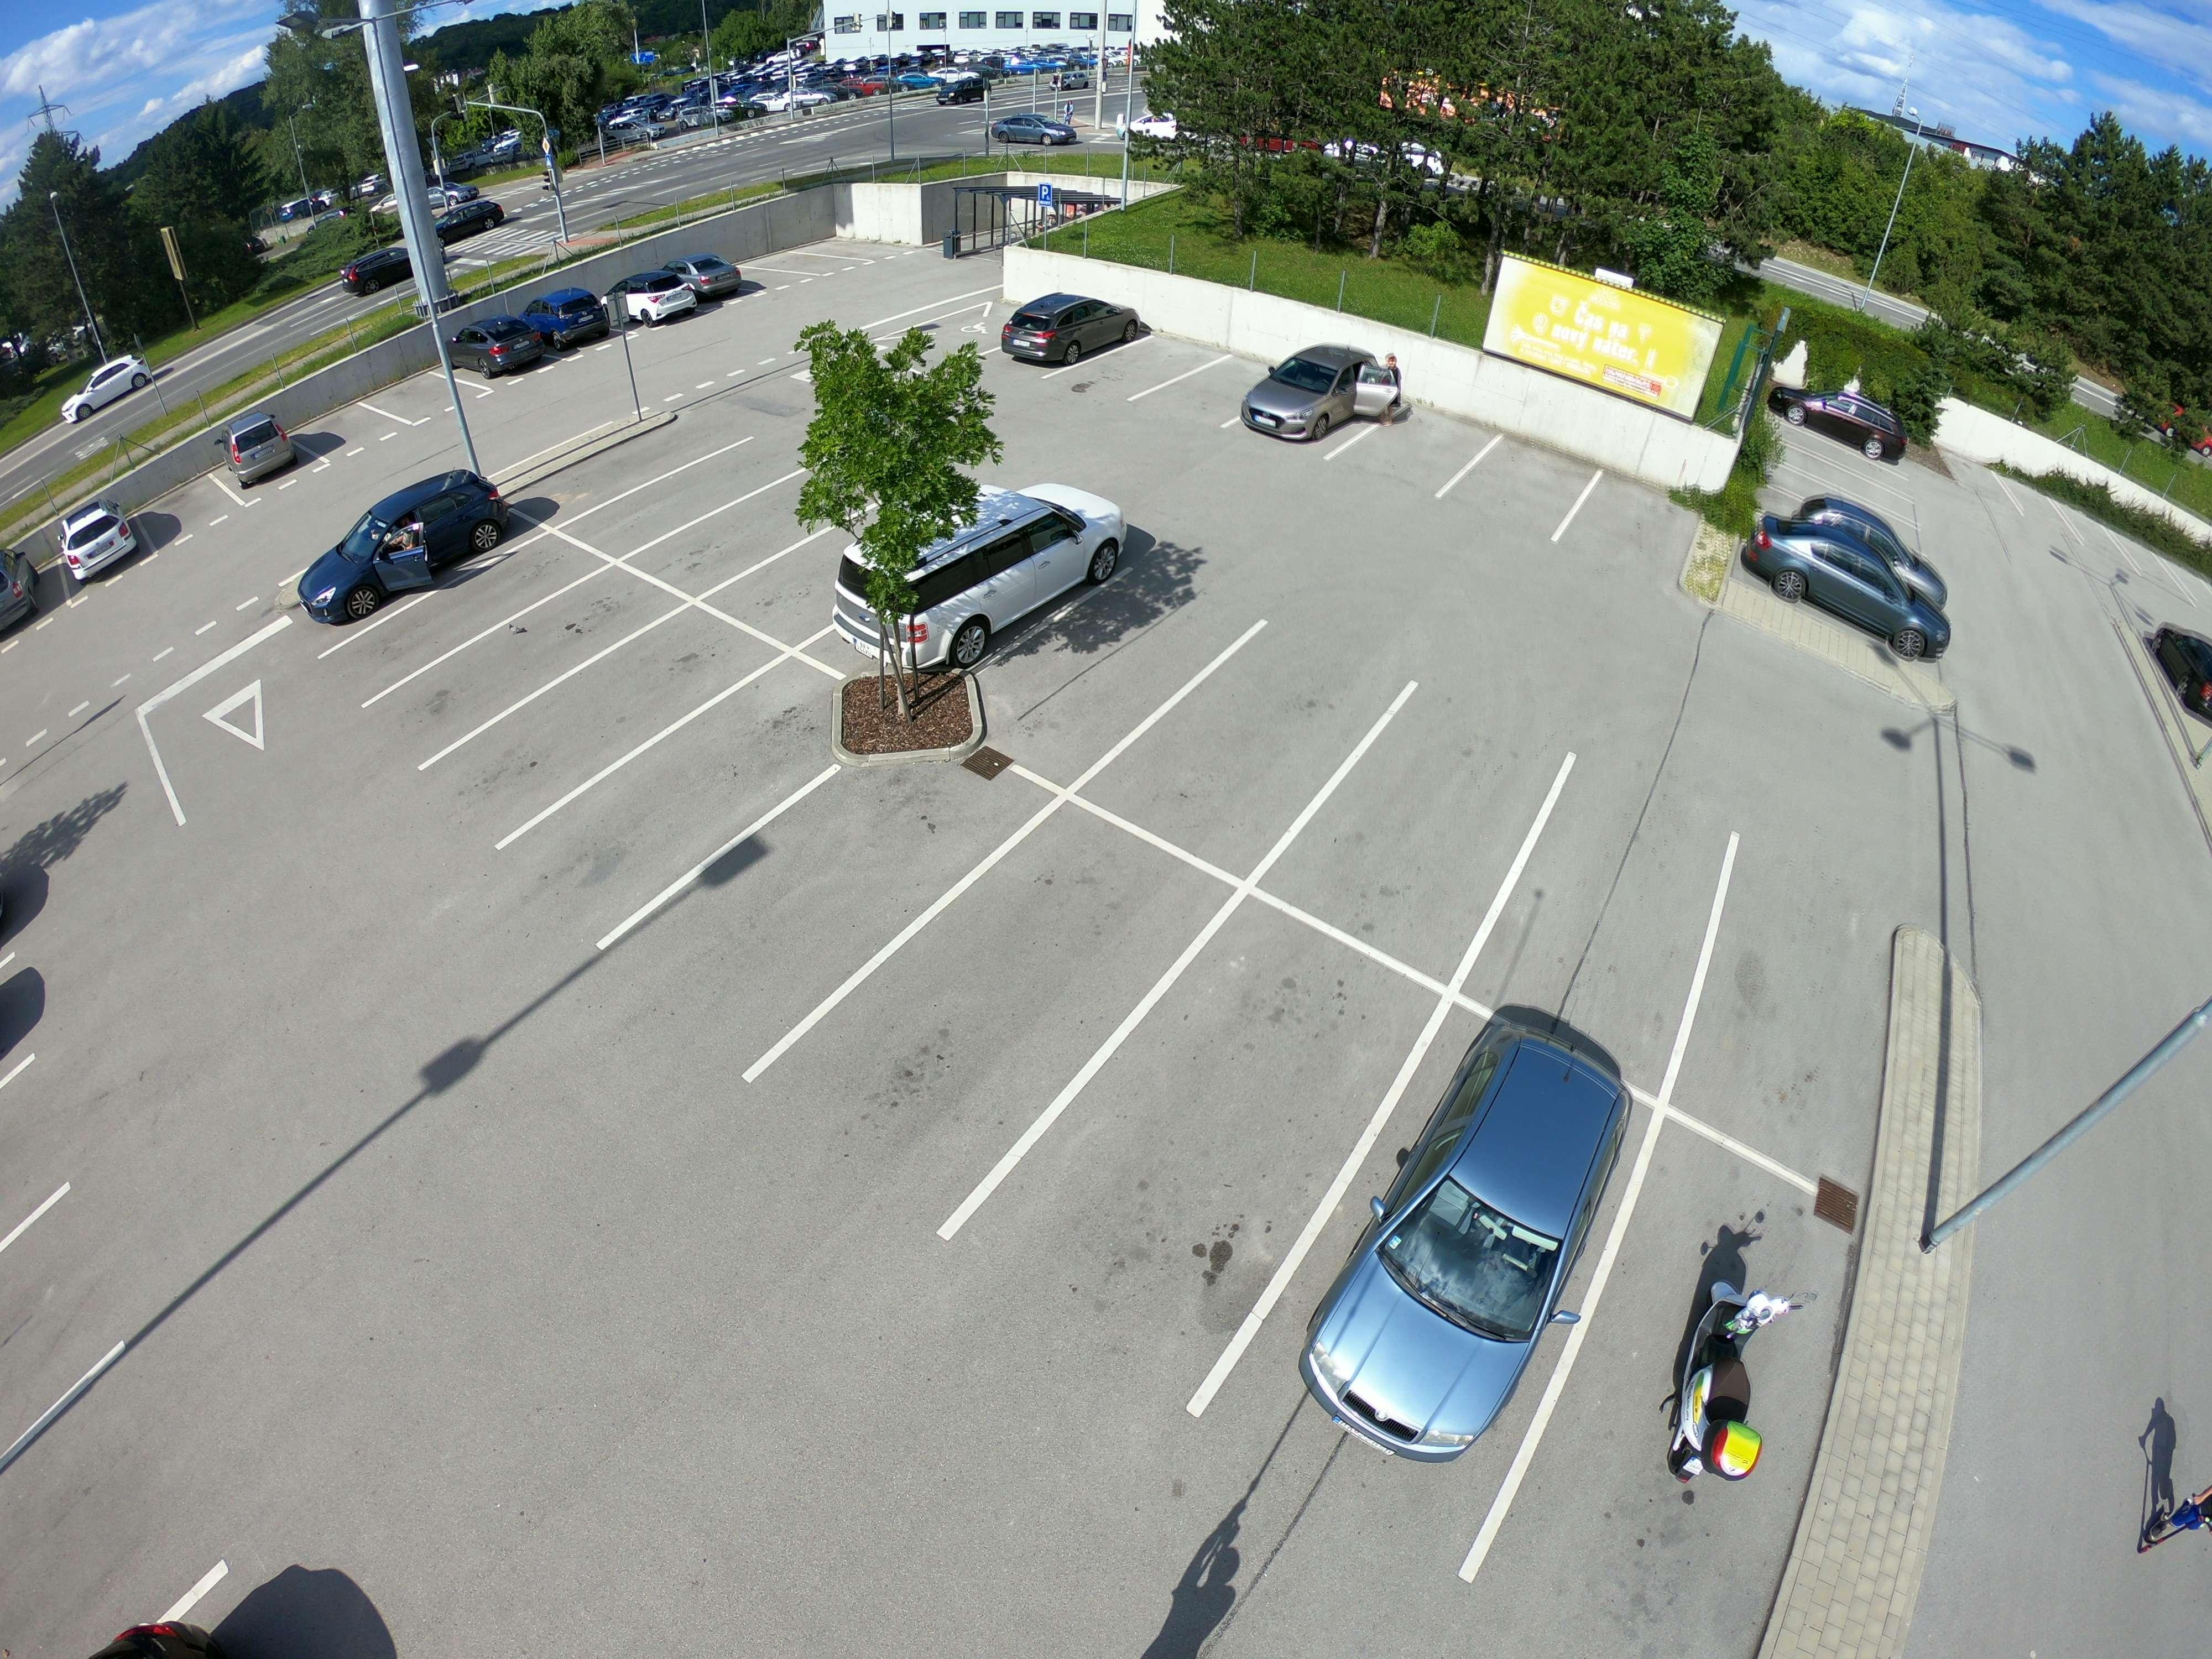empty: (1312, 985, 1648, 1457), (1618, 1195, 1831, 1502), (850, 484, 1137, 673), (310, 464, 523, 612), (1750, 493, 1954, 643), (1242, 329, 1385, 443), (458, 291, 589, 382), (998, 284, 1132, 366), (622, 251, 747, 324), (49, 498, 148, 579), (218, 423, 320, 495), (0, 542, 40, 641)
occupied: (1109, 1037, 1331, 1201), (909, 931, 1097, 1066), (1712, 946, 1862, 1084), (1541, 859, 1705, 978), (738, 835, 902, 934), (1339, 775, 1493, 877), (1179, 699, 1324, 791), (632, 746, 754, 835), (1035, 633, 1148, 711), (561, 667, 665, 742), (744, 542, 848, 617), (493, 619, 580, 681), (1599, 504, 1691, 559), (1479, 460, 1564, 516), (712, 504, 801, 554), (430, 575, 514, 626), (763, 237, 855, 282), (1379, 432, 1454, 486), (296, 406, 381, 451), (155, 481, 226, 533), (554, 453, 641, 495), (646, 477, 725, 518), (1113, 347, 1177, 383), (1193, 373, 1249, 413)
